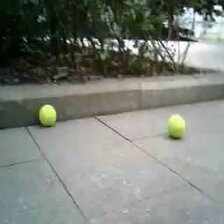tennis: (166, 115, 185, 138), (38, 105, 58, 125)
